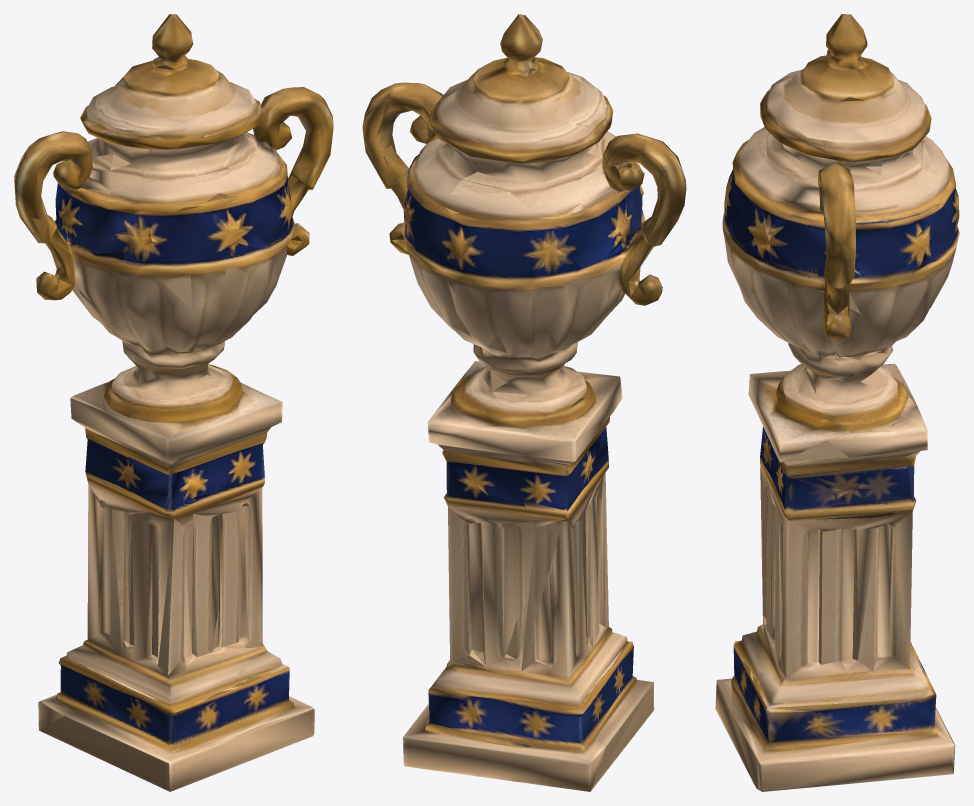
The model's file is urn-tall.glb.
3 views of the same model, side by side, from view 1: azimuth 30°, elevation 25°; view 2: azimuth 150°, elevation 25°; view 3: azimuth 270°, elevation 25° (orthographic).
Visible parts, largest first — view 1: urn-tall; view 2: urn-tall; view 3: urn-tall.
Part boxes in pixels (left/top/right/bottom): urn-tall: left=14, top=14, right=333, bottom=791; urn-tall: left=362, top=14, right=686, bottom=791; urn-tall: left=715, top=14, right=959, bottom=791.
Bounding box in the file's own units: 1.16 × 2.5 × 0.7581.
Materials: 1 (1 with a texture image).
